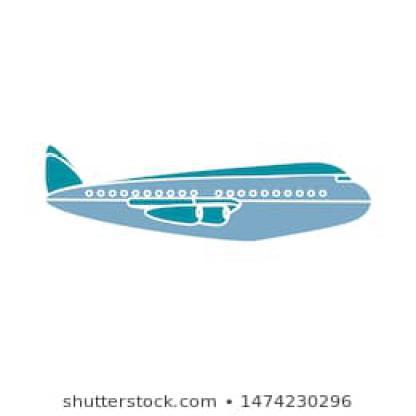CIV_Plane: (34, 138, 372, 247)
